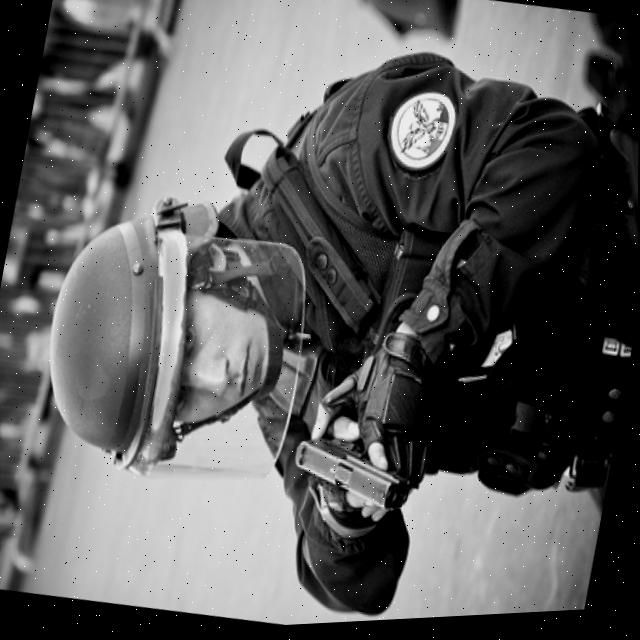pistol: (288, 438, 412, 522)
